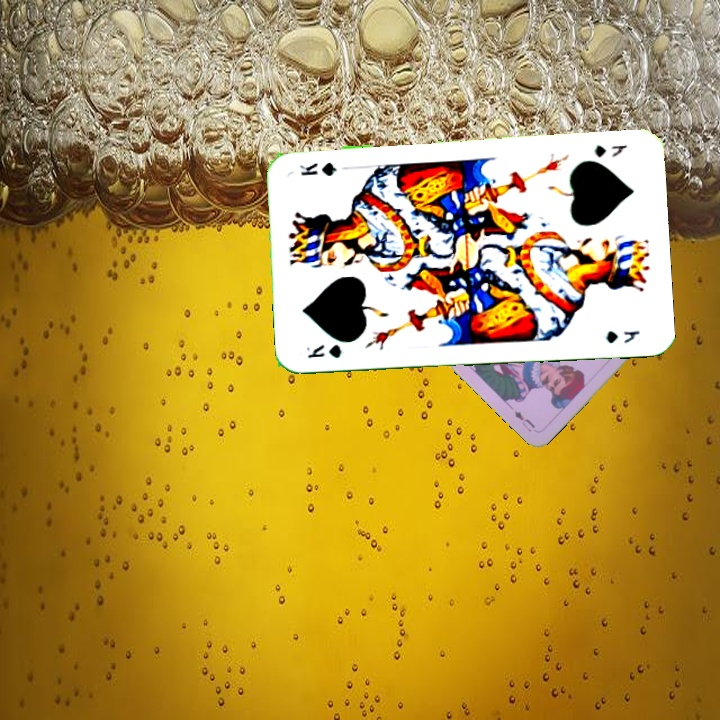GK: (303, 340, 344, 361), (590, 140, 630, 160)
